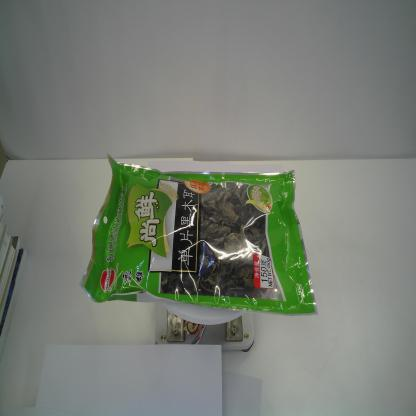Dried Food: (77, 152, 318, 317)
